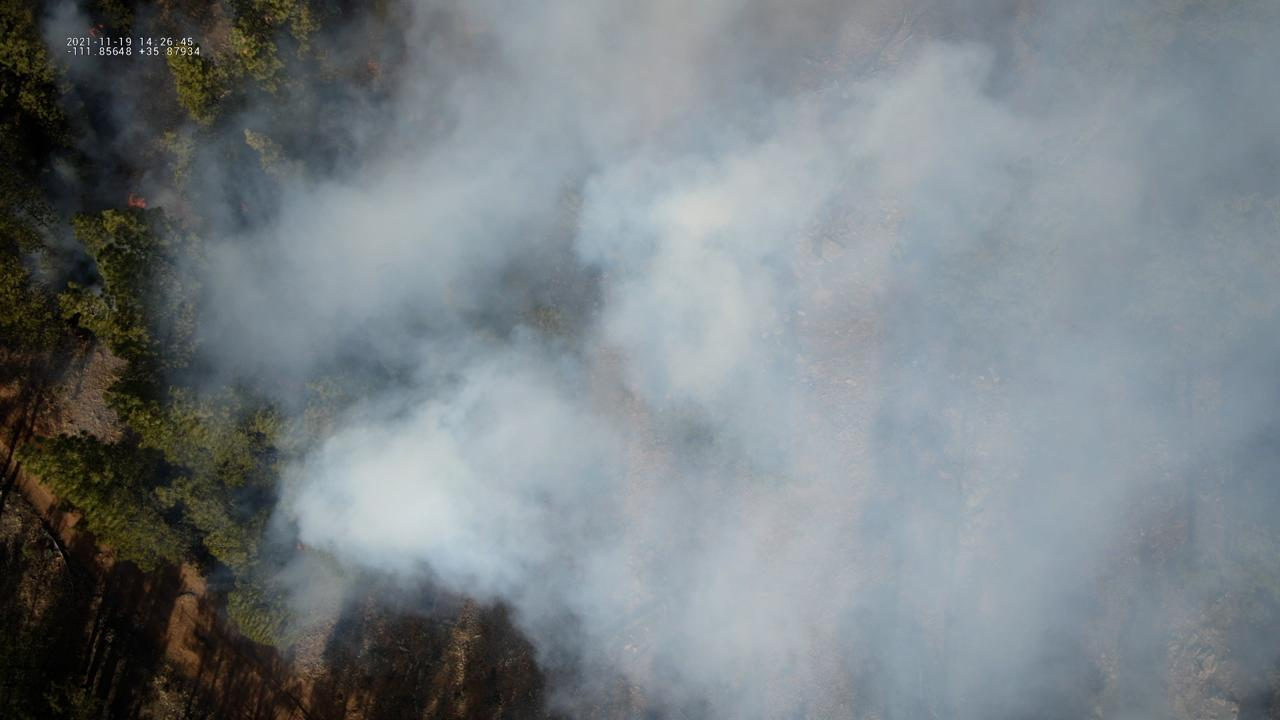fire: (124, 191, 153, 210), (365, 55, 380, 76), (84, 24, 105, 37)
smoke: (10, 0, 1280, 720)
